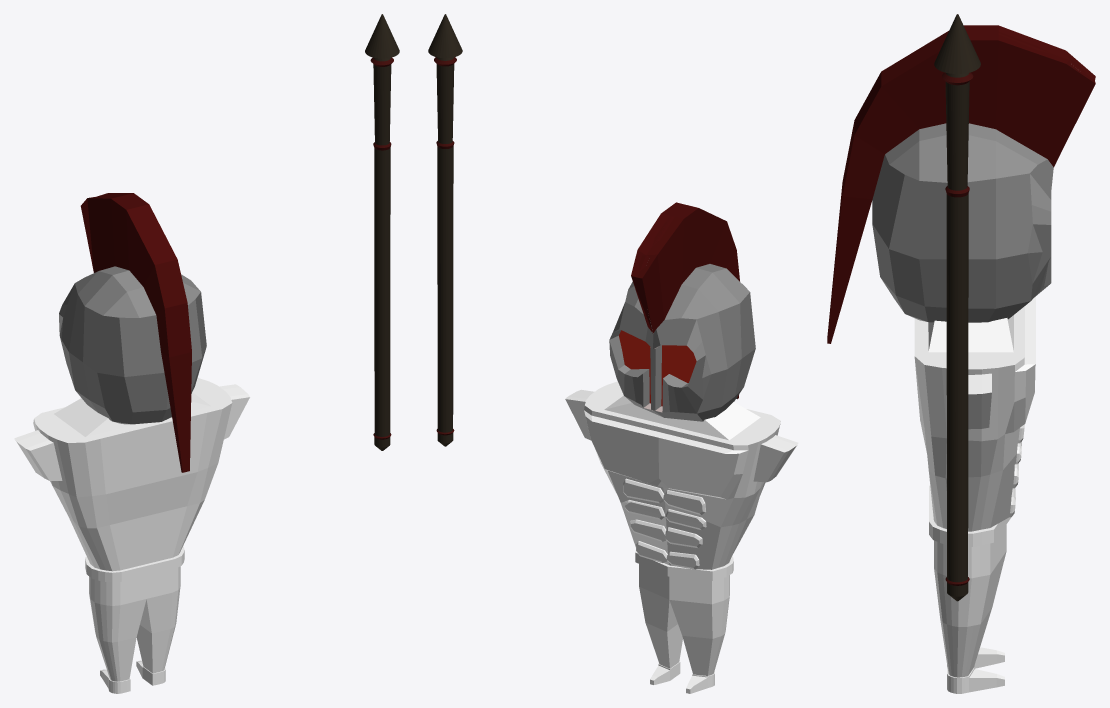
File: KNIGHT.obj
3 renders of one model, left to right at view 1: azimuth 30°, elevation 25°; view 2: azimuth 150°, elevation 25°; view 3: azimuth 270°, elevation 25°, orthographic. The views are drawn at different scales.
Parts seen in each view (by area): view 1: body, head, spear; view 2: body, head, spear; view 3: head, body, spear.
Part boxes in pixels (<box>): body: <box>14,378,249,693</box>; head: <box>59,193,206,472</box>; spear: <box>365,14,399,450</box>; body: <box>565,381,798,693</box>; head: <box>609,202,755,421</box>; spear: <box>428,14,462,446</box>; head: <box>827,25,1095,343</box>; body: <box>914,296,1035,693</box>; spear: <box>934,14,980,601</box>.
Bounding box in the file's own units: 7.53 × 11.86 × 3.51.
